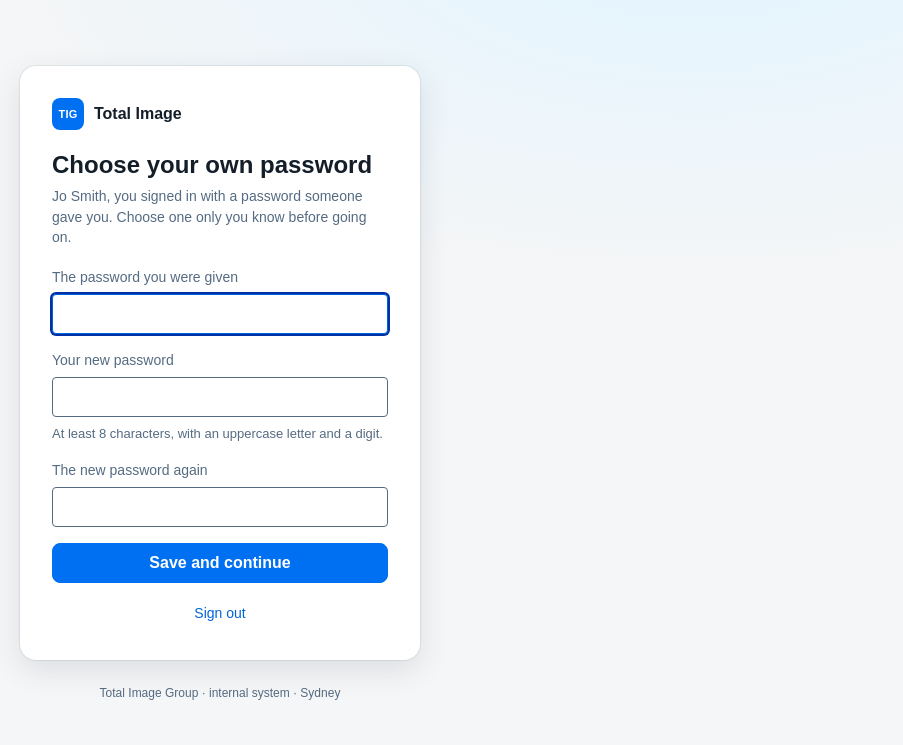
Test: the server refusing is shown, and they can try again
Step 1. Type "Wrong1pass" into the password field labelled "The password you were given" → (220, 314), box left=52, top=294, right=388, bottom=334
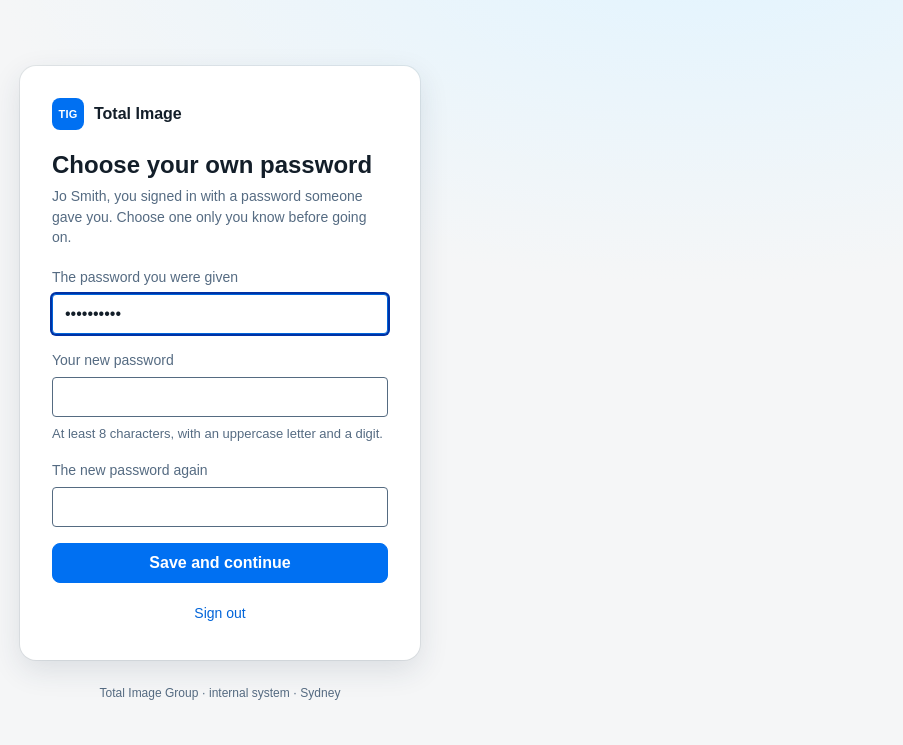
Step 2. Type "MyOwn2pass" into the password field labelled "Your new password" → (220, 397), box left=52, top=377, right=388, bottom=417
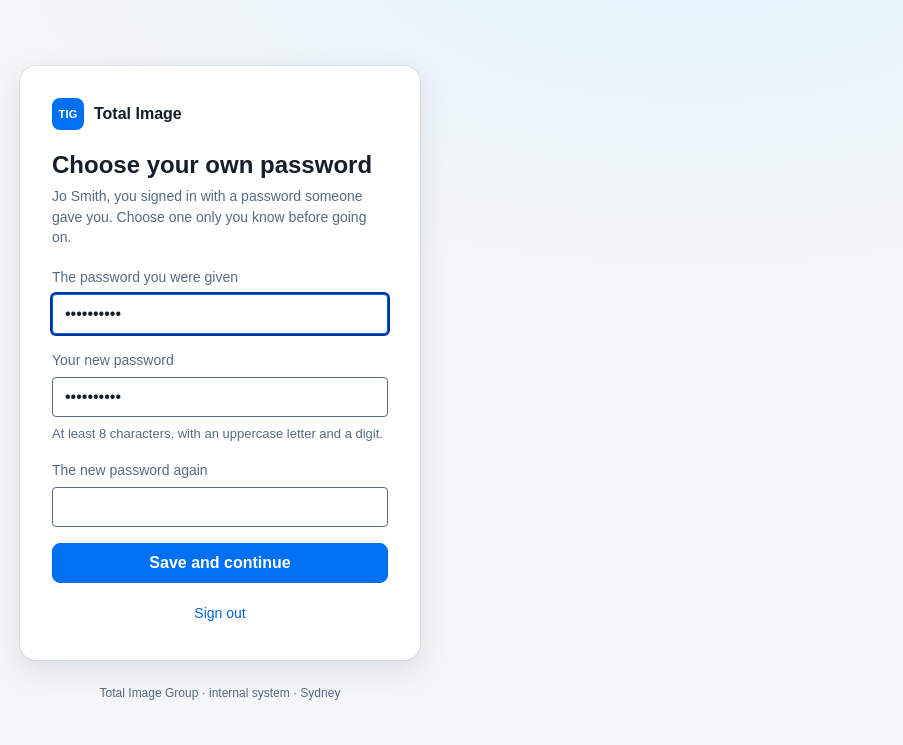
Step 3. Type "MyOwn2pass" into the password field labelled "The new password again" → (220, 506), box left=52, top=486, right=388, bottom=526
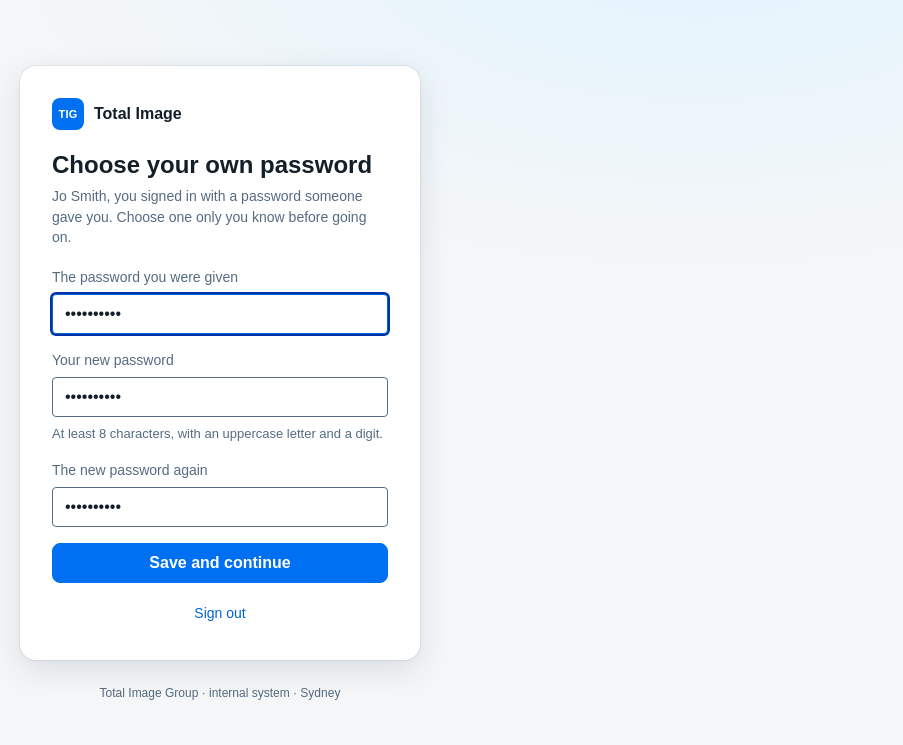
Step 4. Click the button "Save and continue" → (220, 562), box left=52, top=542, right=388, bottom=582
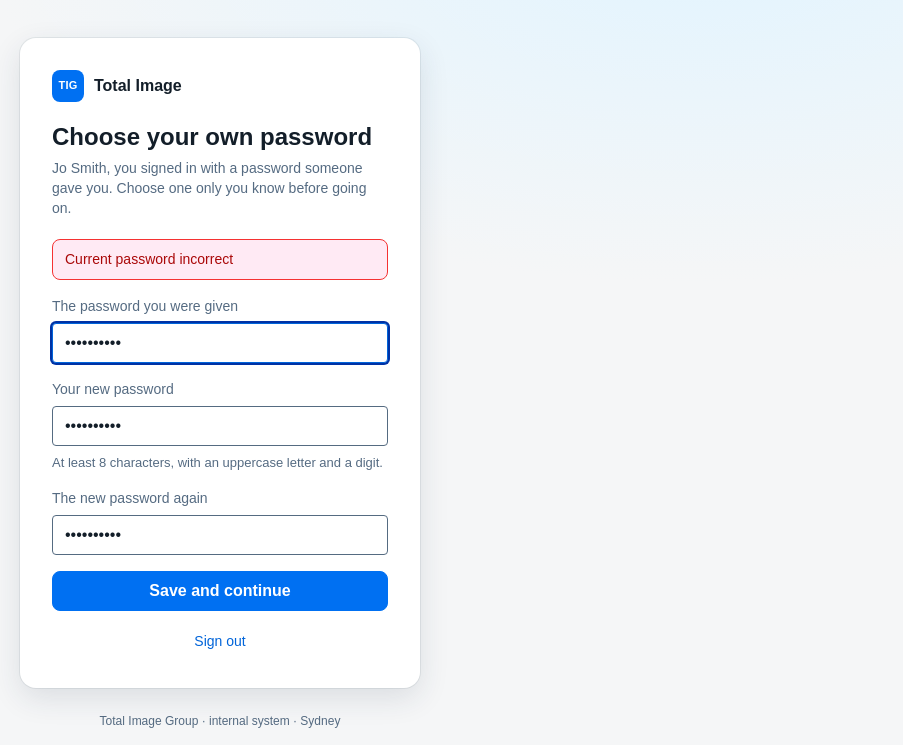
Expected: the button "Save and continue" is enabled, left=52, top=571, right=388, bottom=611
Now the message reads "Current password incorrect", box left=65, top=250, right=233, bottom=266
